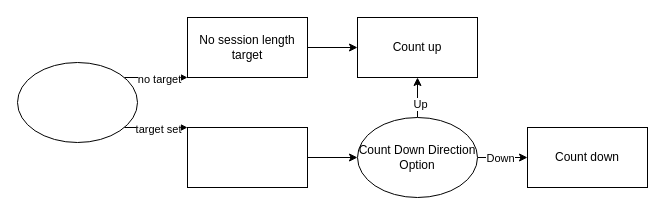
Some shapes in this 665 by 215 pixel diagram are drawn without their labels. The shapes that lost their labels are listed below. From the top down, each one's centre as x and y in pixels, then its label:
At point (77, 102): "Work Session length".
At point (247, 157): "Session length set".
